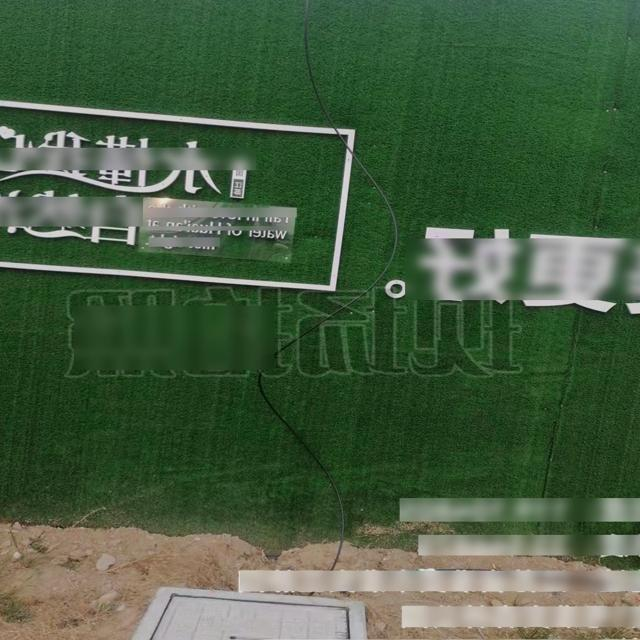good: (72, 583, 382, 640)
